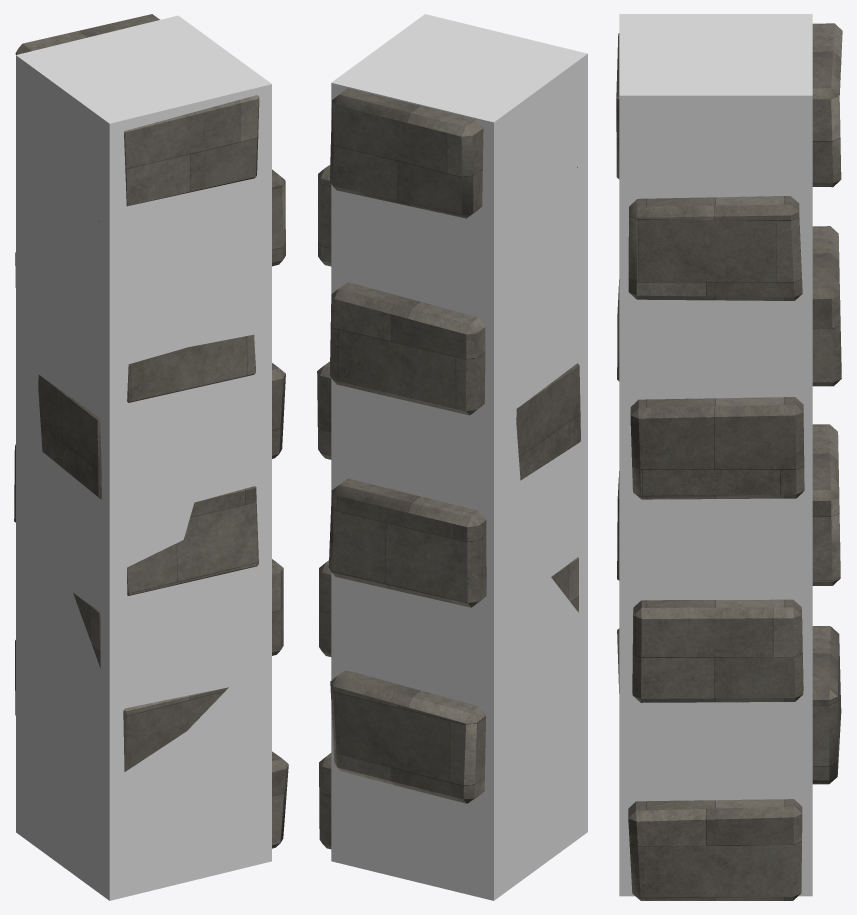
Rendered from ak_corner_quoin_3.glb.
3 views of the same model, side by side, from view 1: azimuth 30°, elevation 25°; view 2: azimuth 150°, elevation 25°; view 3: azimuth 270°, elevation 25° (orthographic). The views are drawn at different scales.
Visible parts, largest first — view 1: col_corner, corner; view 2: col_corner, corner; view 3: col_corner, corner.
Boxes of the visible parts, bbox=[...] form: col_corner: bbox=[16, 15, 271, 900]; corner: bbox=[14, 14, 288, 848]; col_corner: bbox=[331, 14, 587, 900]; corner: bbox=[317, 88, 580, 849]; col_corner: bbox=[619, 14, 812, 896]; corner: bbox=[616, 23, 842, 900].
Size of the model in its own units: 0.8171 by 3.2 by 0.8197.
Materials: 1 (1 with a texture image).
